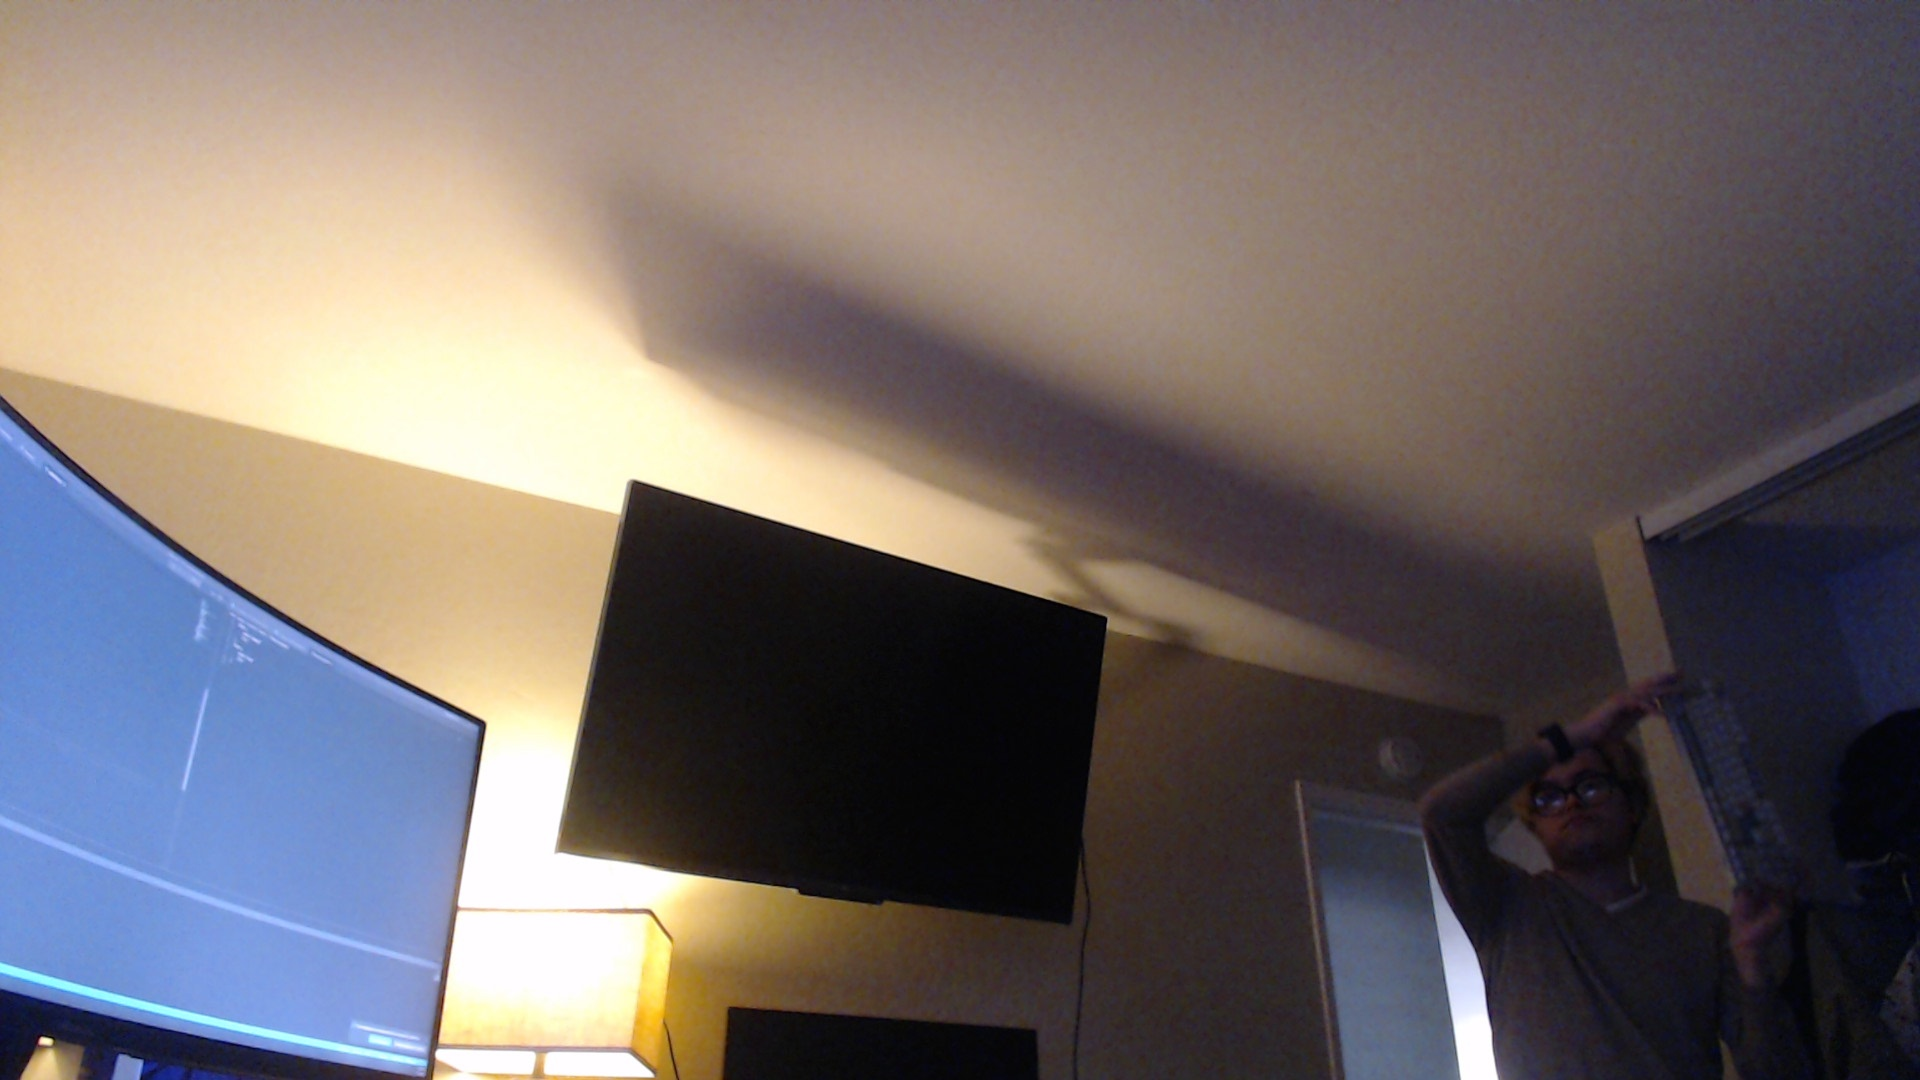keyboard: (1660, 673, 1807, 906)
